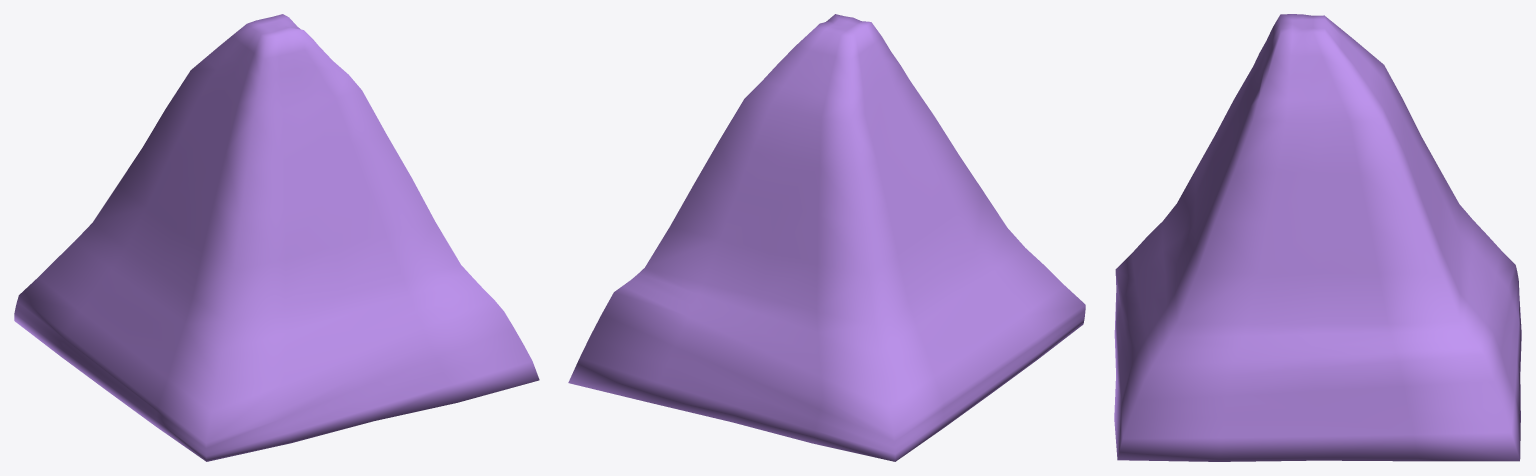
File: mountain2.fbx
3 views of the same model, side by side, from view 1: azimuth 30°, elevation 25°; view 2: azimuth 150°, elevation 25°; view 3: azimuth 270°, elevation 25° (orthographic). The views are drawn at different scales.
Visible parts, largest first — view 1: mountain2; view 2: mountain2; view 3: mountain2.
Boxes of the visible parts, <box> form: mountain2: <box>14,14,539,461</box>; mountain2: <box>568,14,1085,461</box>; mountain2: <box>1114,14,1521,461</box>.
Size of the model in its own units: 3766 by 3575 by 3769.
